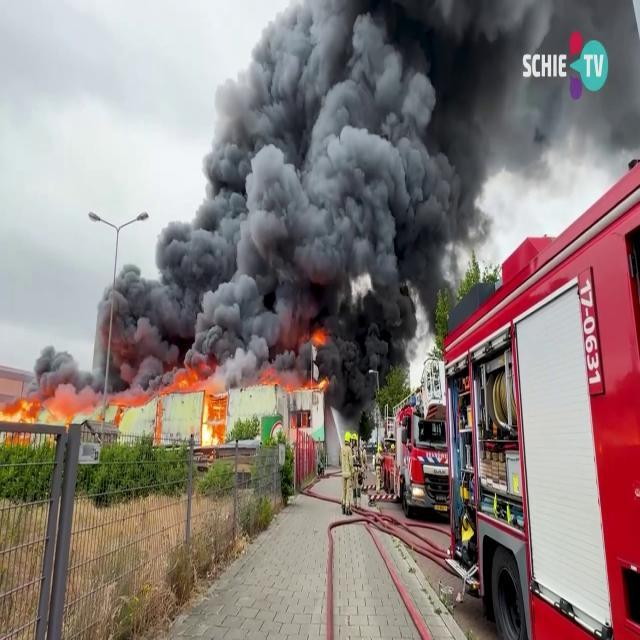Fire: (1, 370, 312, 444), (0, 387, 81, 434)
Smoke: (98, 1, 525, 369)
